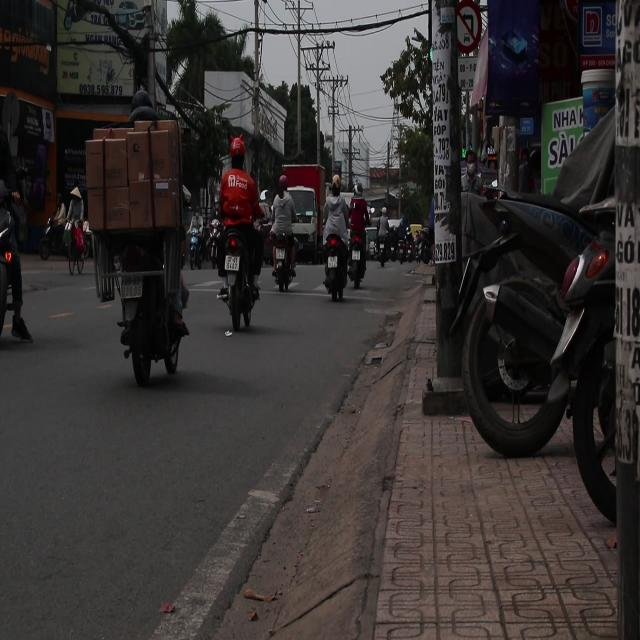motorbike: (101, 165, 201, 408), (217, 215, 264, 335), (345, 200, 373, 298), (181, 200, 209, 284), (320, 229, 350, 303), (271, 228, 298, 296), (379, 212, 396, 278)
truck: (277, 165, 324, 262)
